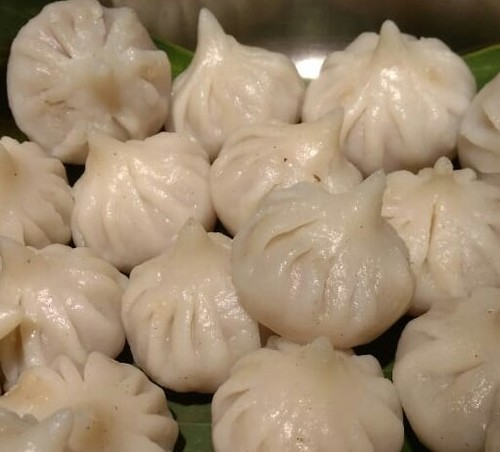modak: (238, 188, 435, 334), (134, 221, 279, 396), (228, 338, 424, 452), (316, 32, 471, 158), (373, 150, 500, 299), (68, 130, 228, 247), (215, 116, 371, 212)
